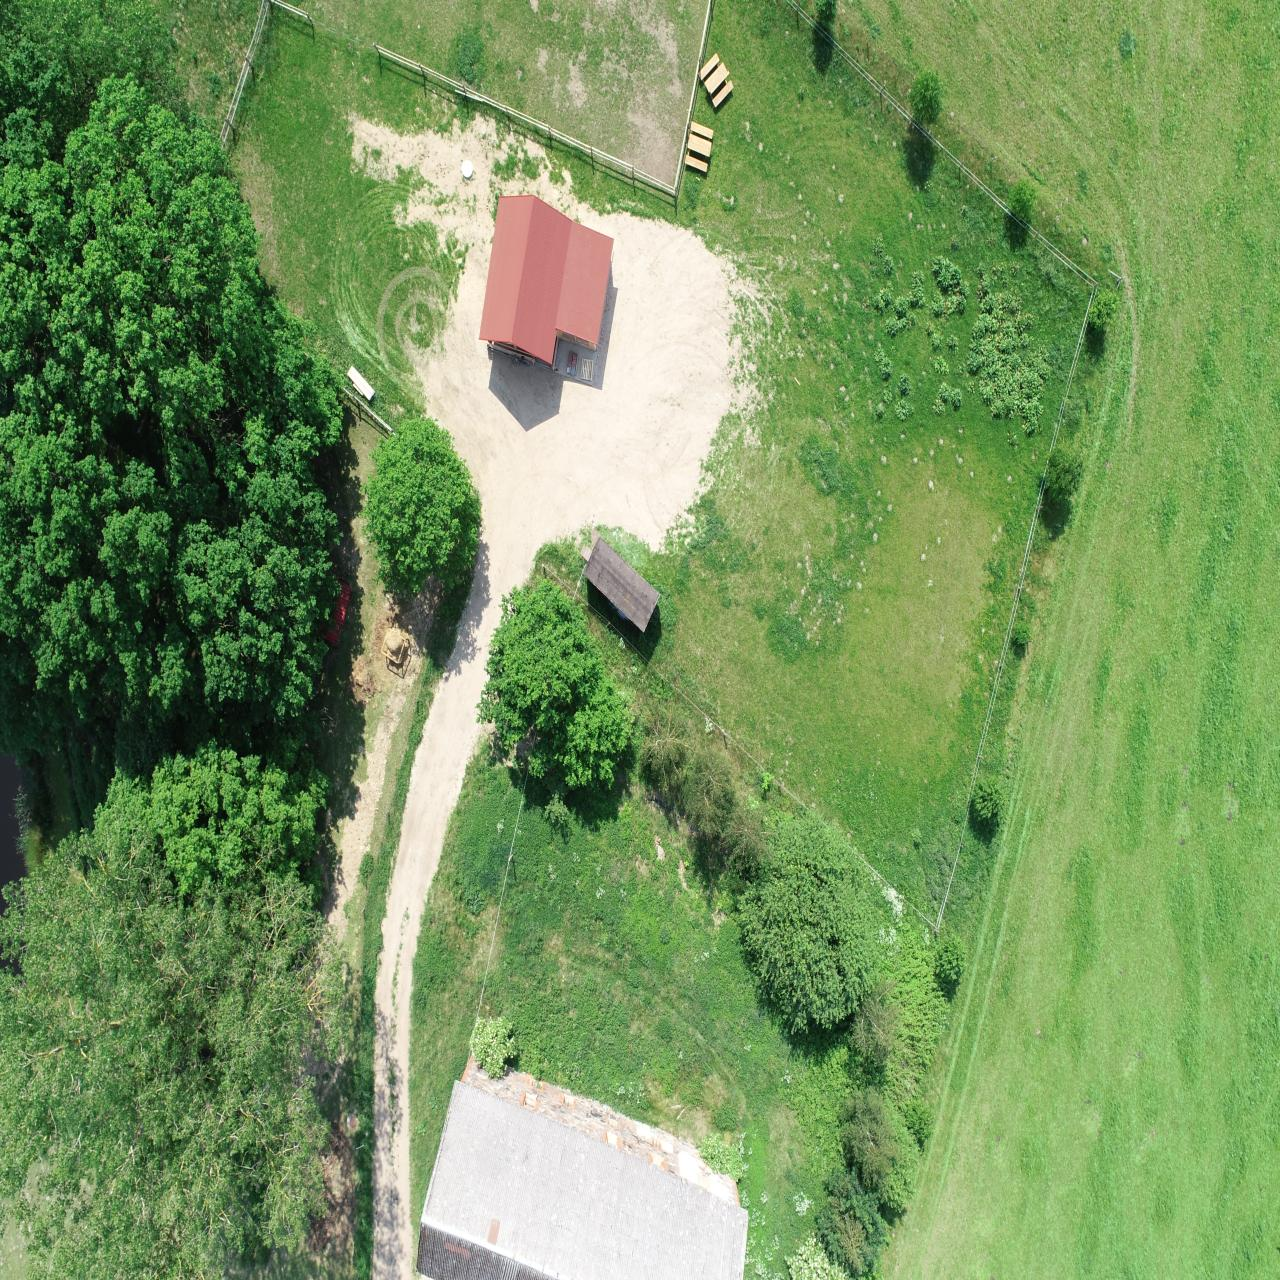cow: (1218, 84, 1276, 159)
